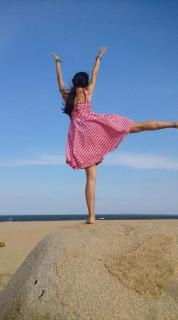vest: (65, 90, 134, 170)
